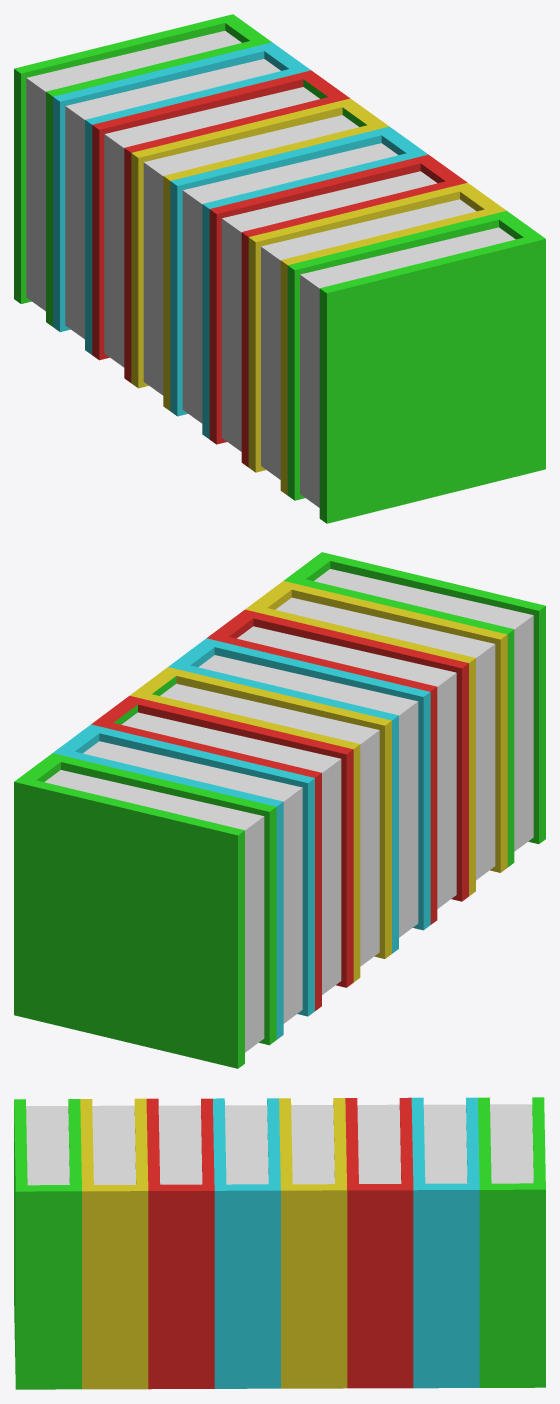
File: Libros.fbx
3 views of the same model, one above another, from view 1: azimuth 30°, elevation 25°; view 2: azimuth 150°, elevation 25°; view 3: azimuth 270°, elevation 25° (orthographic). The views are drawn at different scales.
Parts seen in each view (by area): view 1: Libros; view 2: Libros; view 3: Libros.
Boxes of the visible parts, left/top/right/bottom form: Libros: left=14, top=14, right=545, bottom=523; Libros: left=14, top=552, right=545, bottom=1068; Libros: left=14, top=1097, right=545, bottom=1389.
Bounding box in the file's own units: 0.2653 × 0.2602 × 0.6333.
